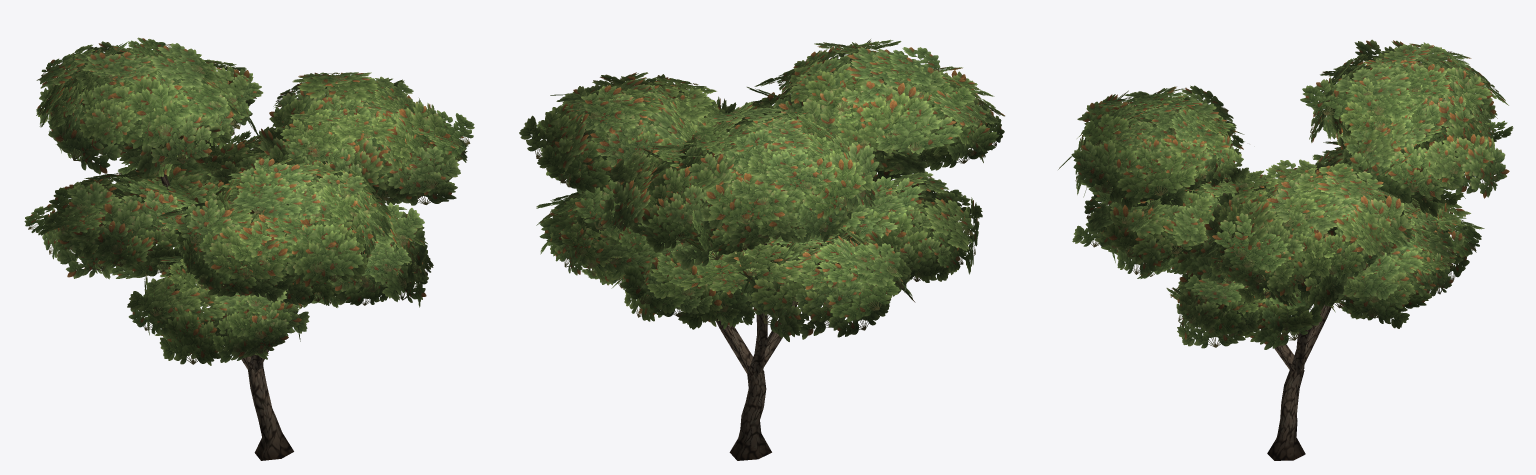
The model's file is gewa_a_lod1.glb.
3 renders of one model, left to right at view 1: azimuth 30°, elevation 25°; view 2: azimuth 150°, elevation 25°; view 3: azimuth 270°, elevation 25°, orthographic. The views are drawn at different scales.
Parts seen in each view (by area): view 1: leaves, wood; view 2: leaves, wood; view 3: leaves, wood.
Boxes of the visible parts, x1,y1,x2,y2 form: leaves: (24, 37, 474, 365); wood: (158, 168, 293, 460); leaves: (519, 39, 1004, 341); wood: (716, 243, 815, 460); leaves: (1058, 39, 1513, 349); wood: (1265, 234, 1331, 460).
Size of the model in its own units: 10.46 by 10.08 by 11.28.
2 materials, 2 textured.
